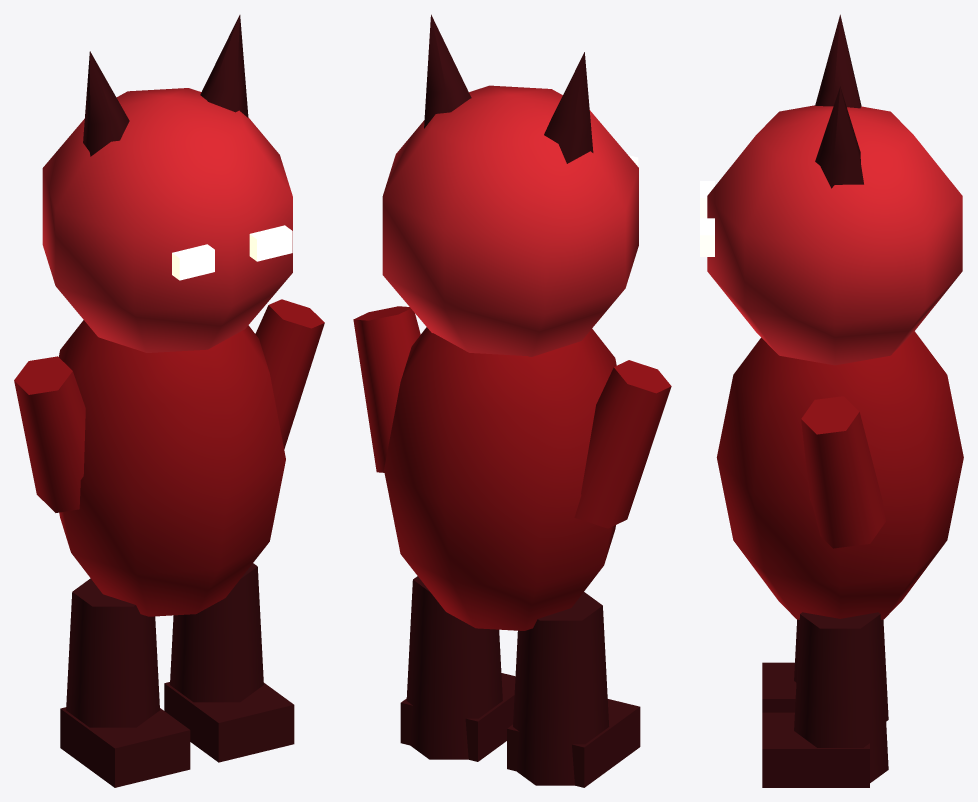
The model's file is enemy.glb.
3 renders of one model, left to right at view 1: azimuth 30°, elevation 25°; view 2: azimuth 150°, elevation 25°; view 3: azimuth 270°, elevation 25°, orthographic. The views are drawn at different scales.
Visible parts, largest first — view 1: Enemy2; view 2: Enemy2; view 3: Enemy2.
Part boxes in pixels (left/top/right/bottom): Enemy2: left=14, top=15, right=324, bottom=787; Enemy2: left=353, top=14, right=671, bottom=787; Enemy2: left=700, top=14, right=963, bottom=787.
Bounding box in the file's own units: 0.6271 × 1.43 × 0.491.
